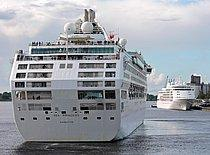Ship: (6, 6, 154, 147), (154, 74, 200, 117)
